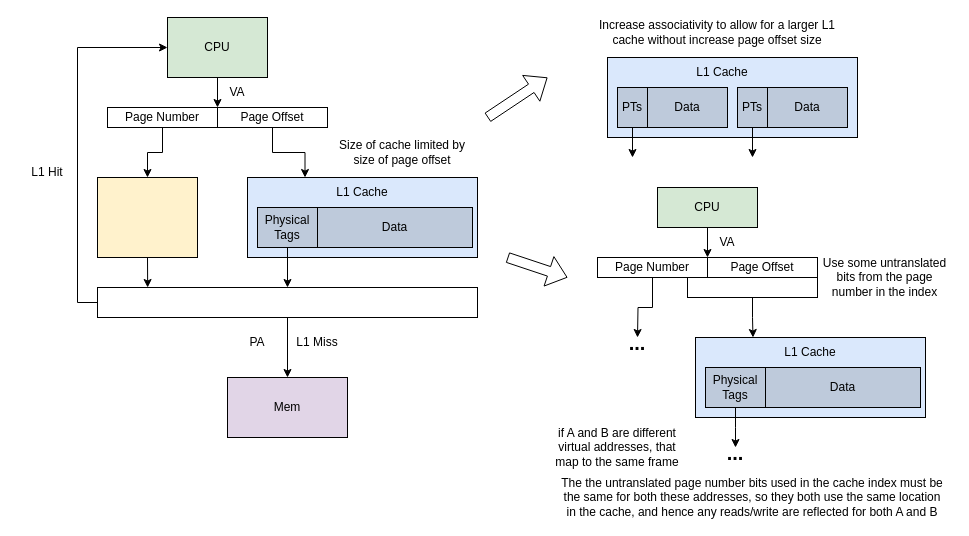
Some shapes in this 969 by 536 pixel diagram are drawn without their labels. The shapes that lost their labels are listed below. From the top down, each one's centre as x and y in pixels, then its label:
the point at 147,217: TLB
the point at 287,302: Compare tag with translated page number
the point at 752,287: Cache Index
